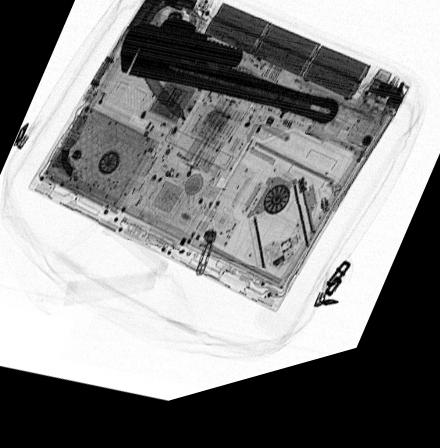Wrench: (120, 20, 339, 144)
